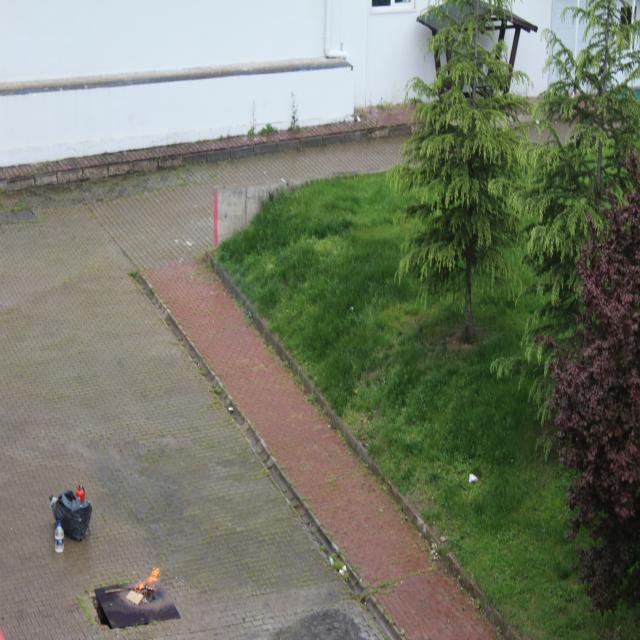fire: (134, 568, 166, 597)
